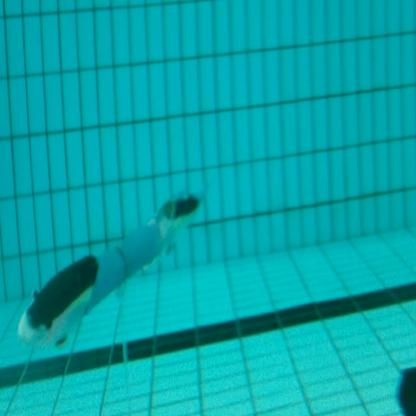rubberfish: (18, 184, 209, 360)
tail: (18, 247, 100, 360), (148, 183, 209, 279)
